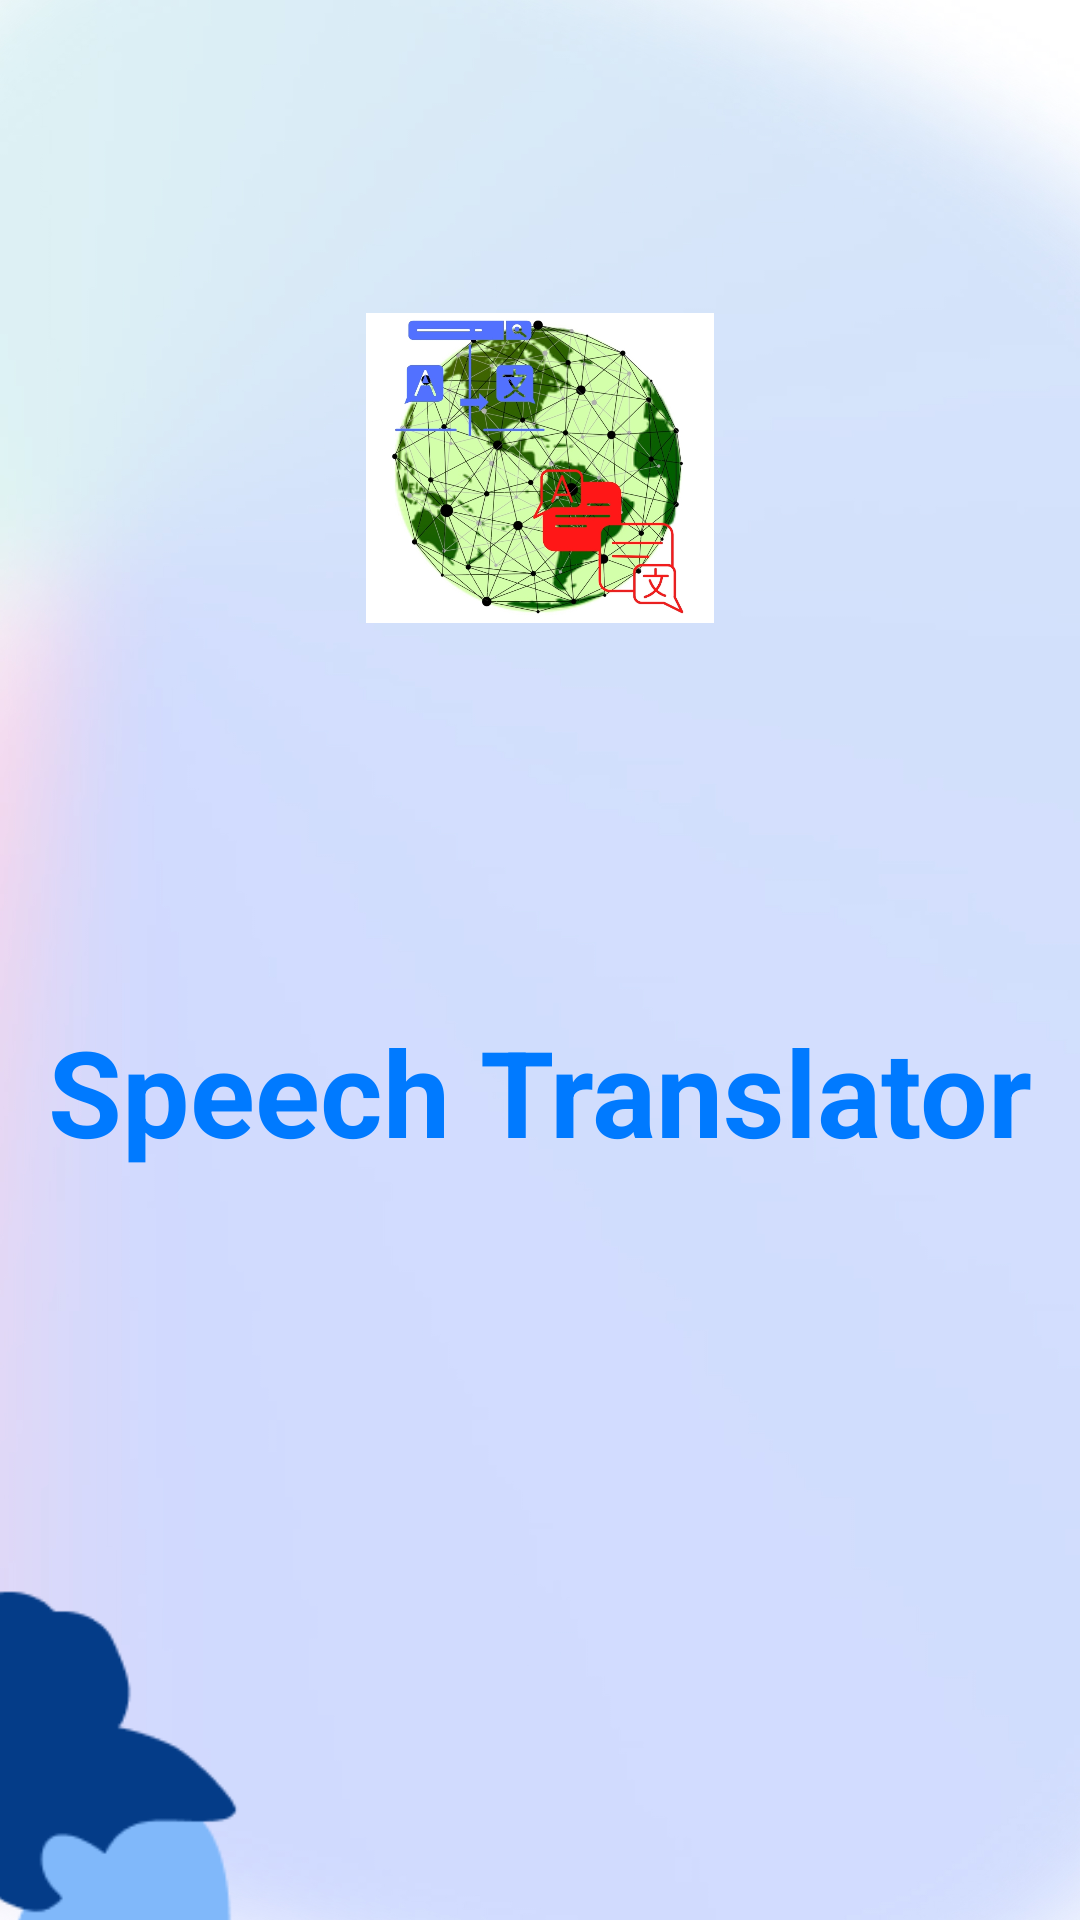

Named icons in this screenshot (1080×1920) and their centers, (x=x, y=y):
translate: (x=540, y=468)
